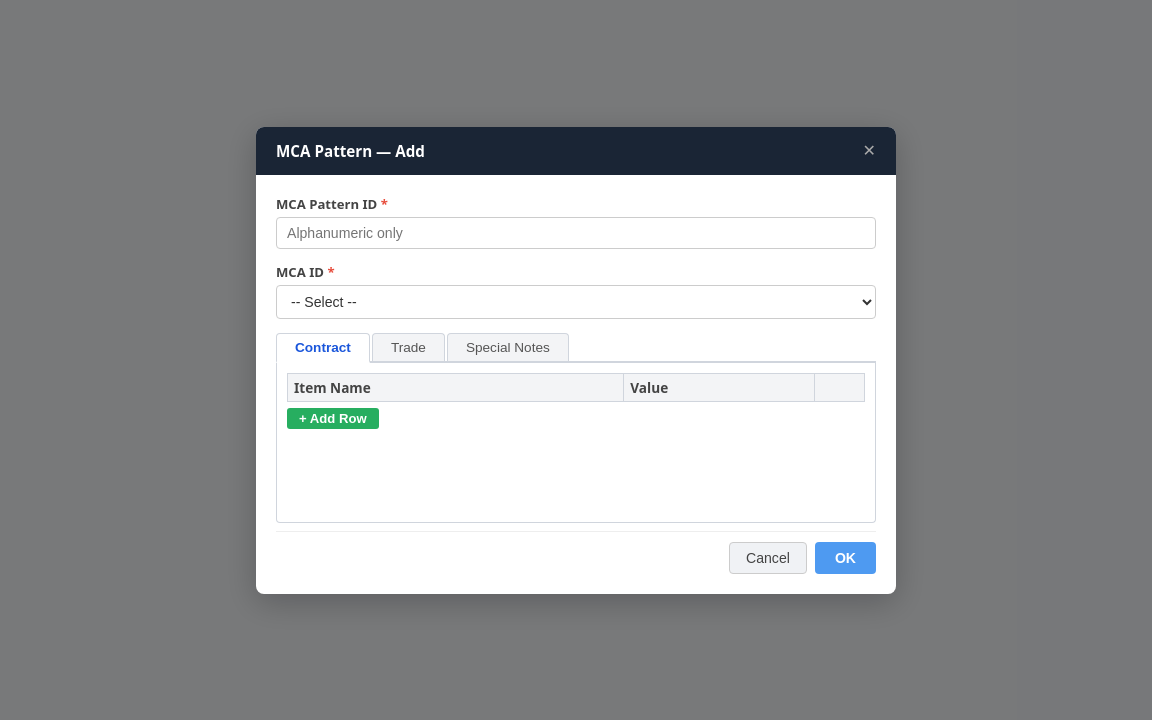
MCAPatternModal › validates required fields
This screenshot has width=1152, height=720.
Click the button "OK".
click(845, 558)  # box [815, 542, 876, 574]
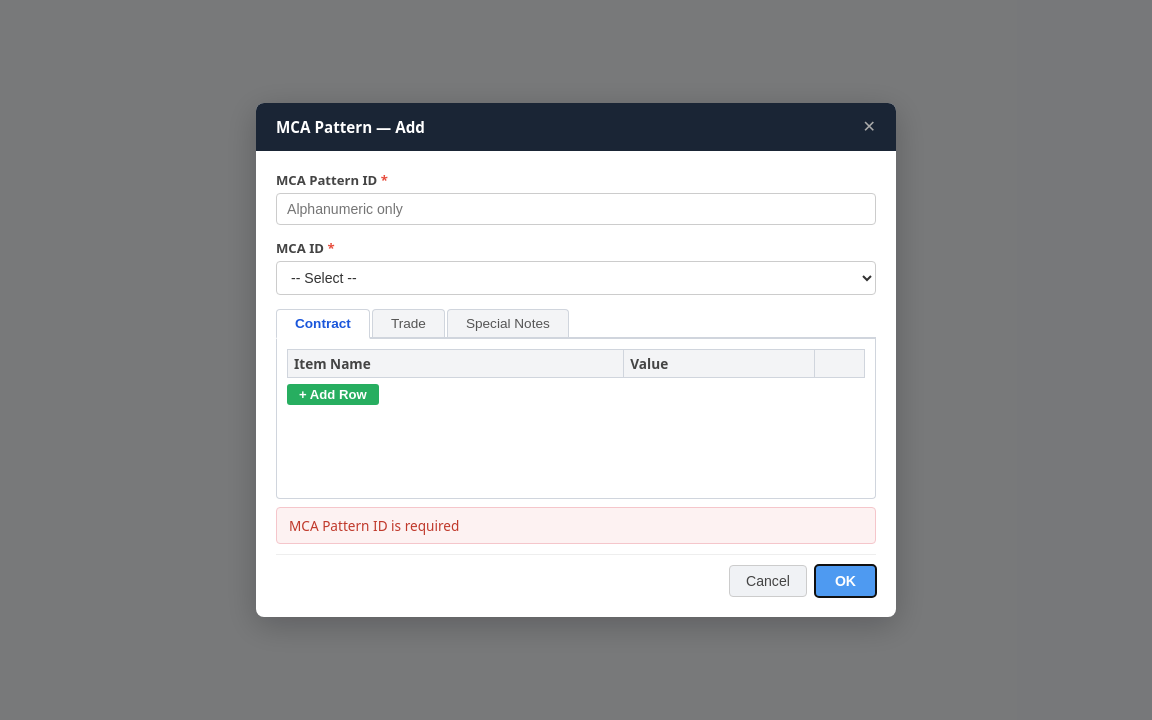
expect the text "MCA Pattern ID is required" is shown: met, box [276, 507, 876, 544]
